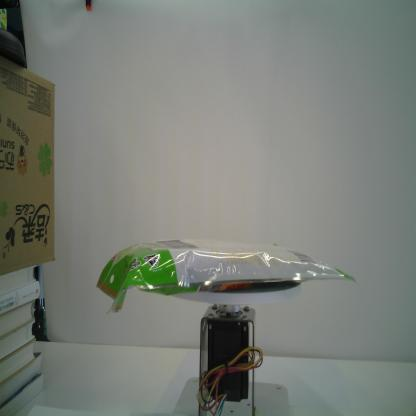Dried Food: (94, 235, 360, 320)
